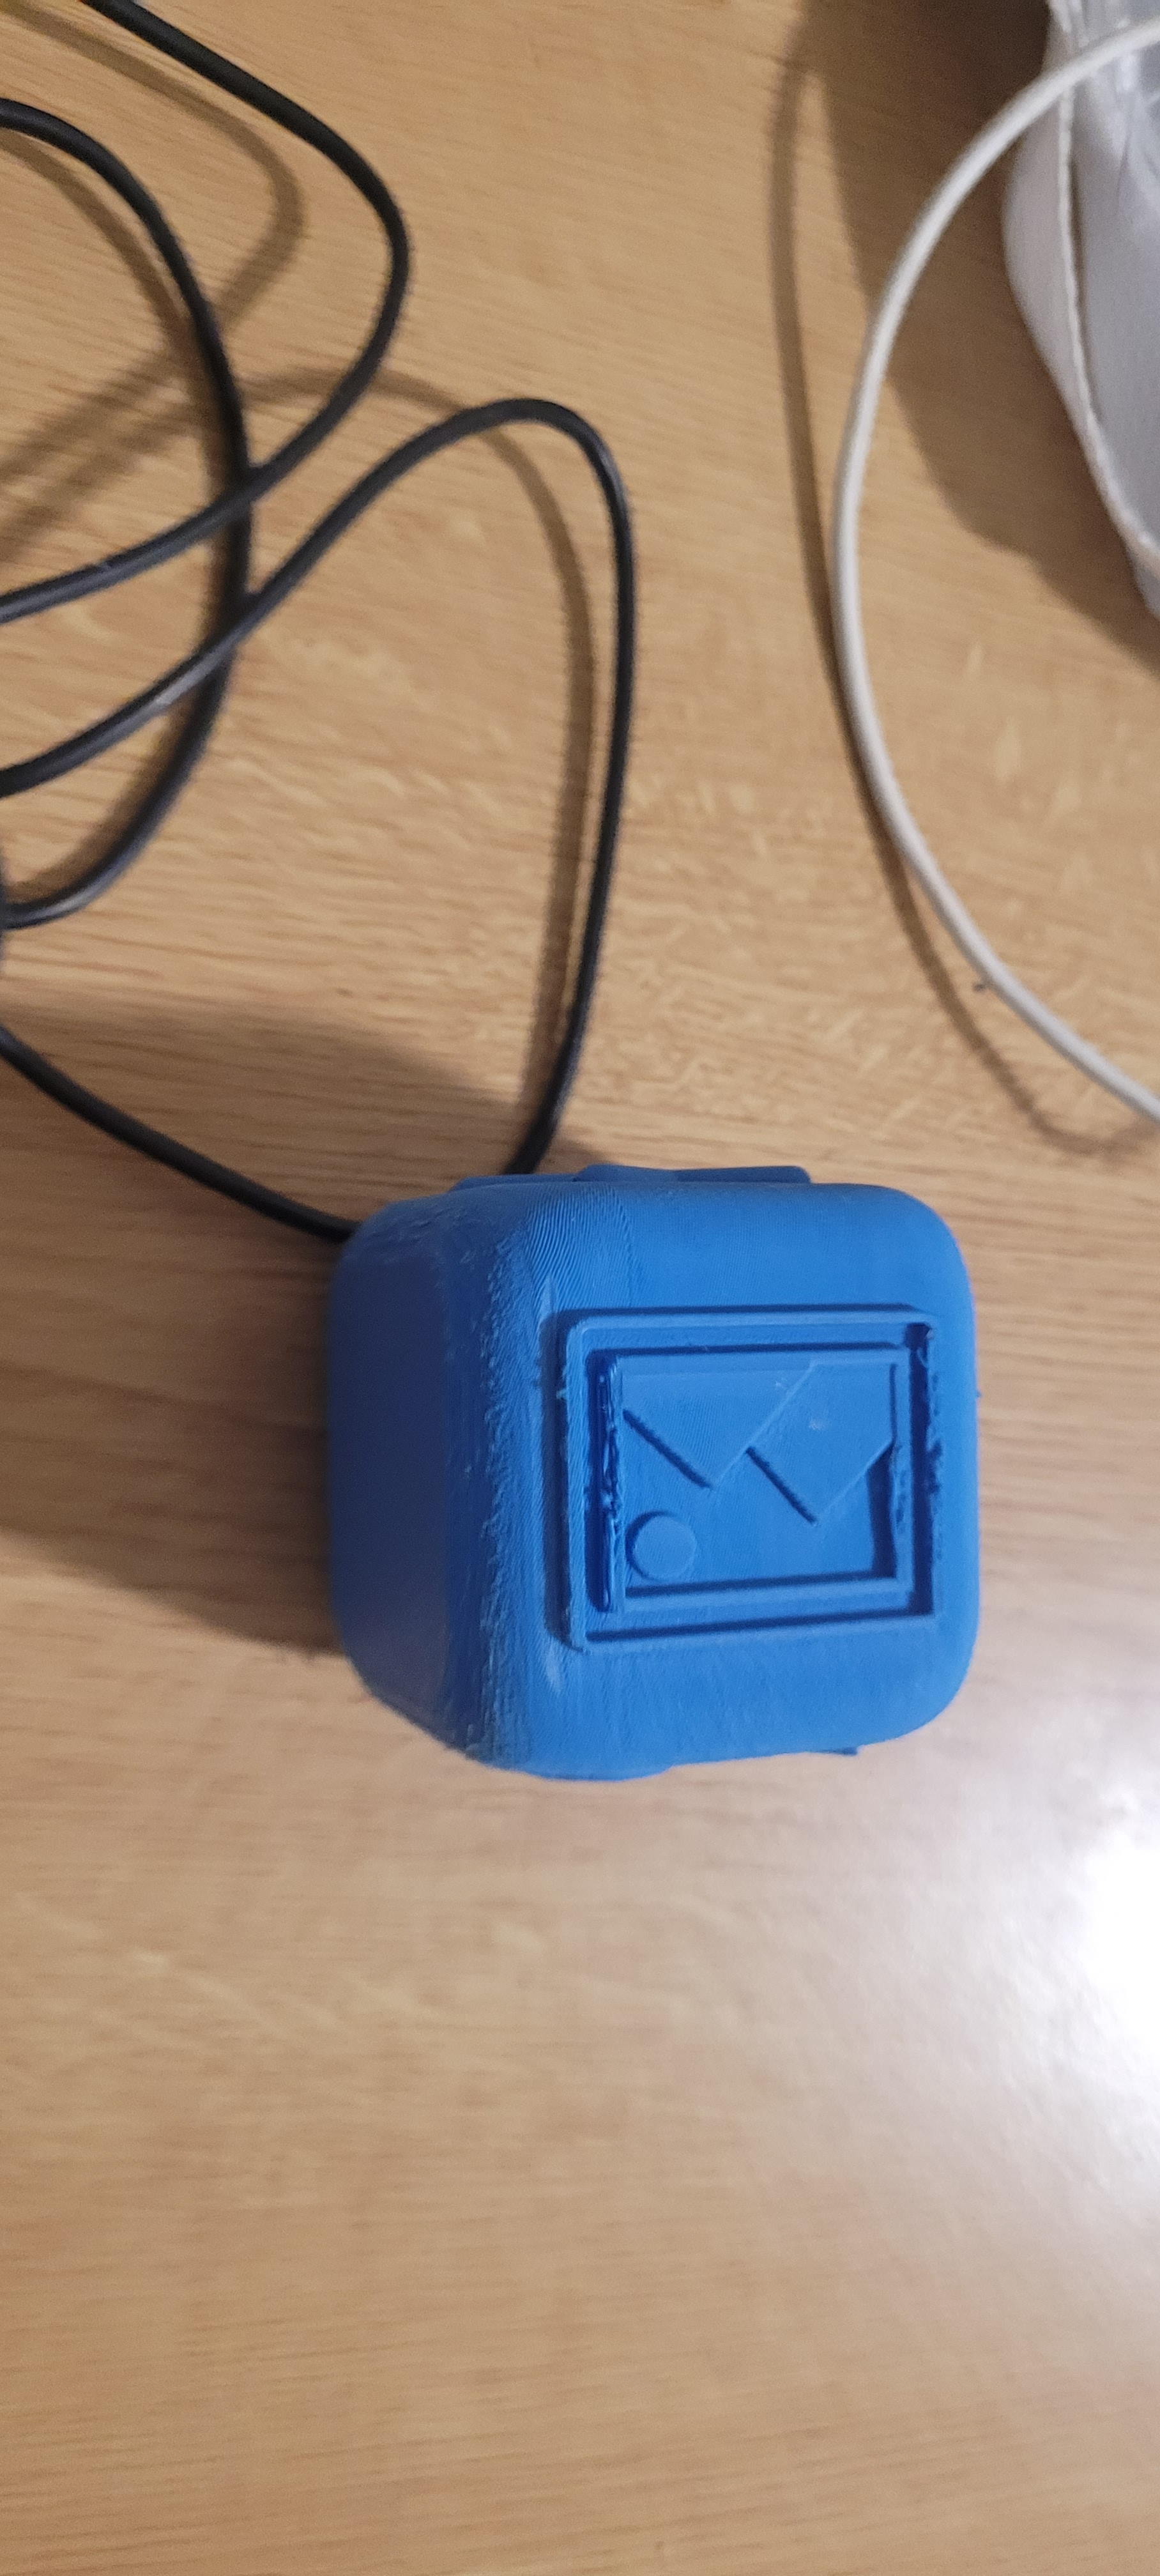Story: (549, 1291, 940, 1626)
